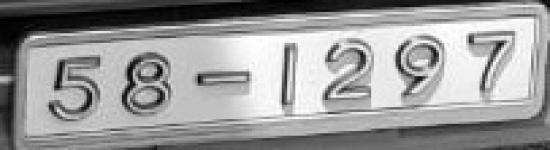-: (190, 64, 258, 95)
1: (272, 37, 308, 111)
2: (314, 35, 380, 105)
5: (43, 52, 109, 125)
7: (459, 26, 522, 99)
8: (115, 45, 181, 122)
9: (384, 32, 451, 102)
